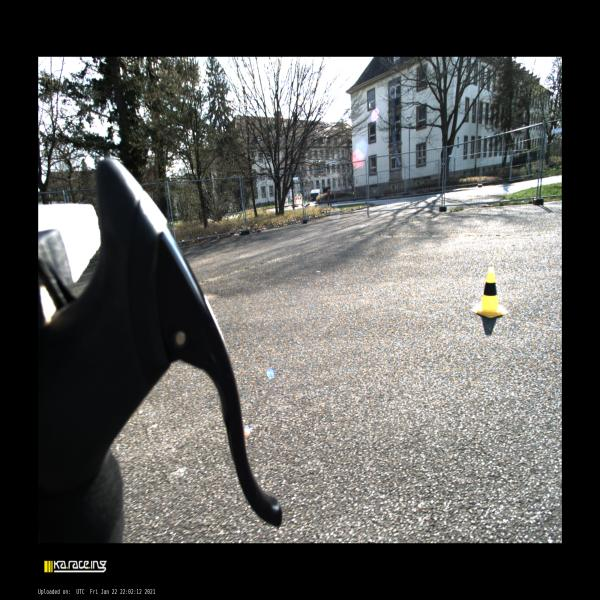yellow_cone: (472, 267, 507, 318)
